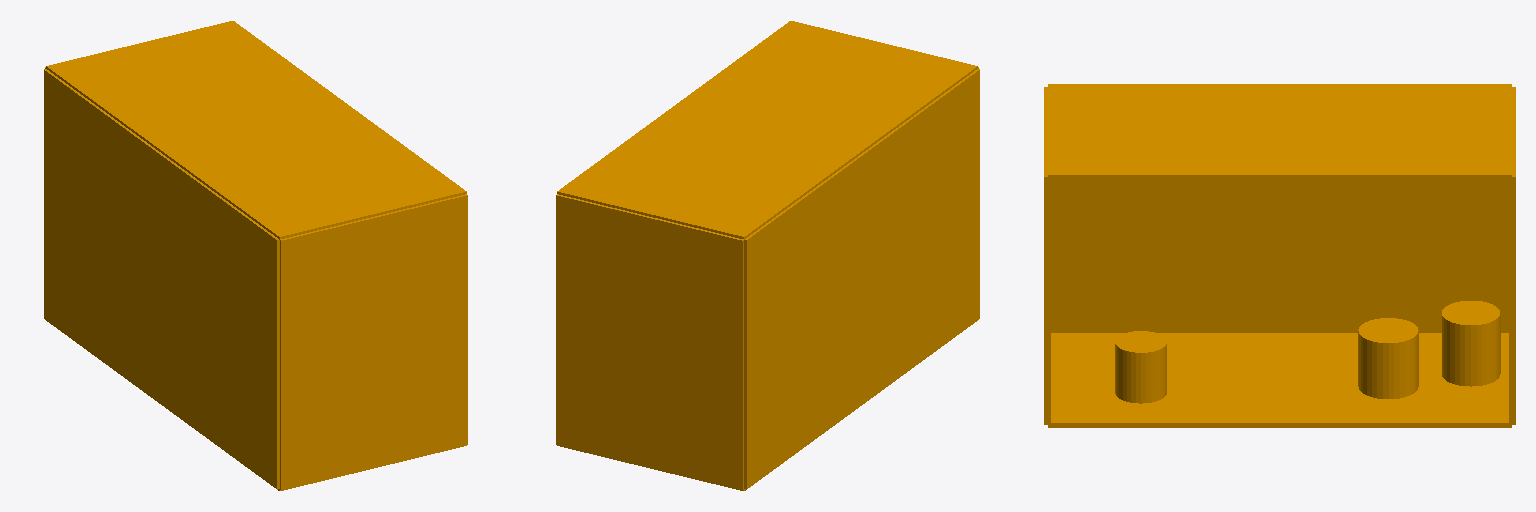
The robot description file, URDF, robot "syn_can_cabinet_2628":
<?xml version="1.0" ?>
<robot name="syn_can_cabinet_2628">
    <link concave="yes" name="base_link">
        <inertial>
            <origin rpy="0 0 0" xyz="0 0 0"/>
            <mass value="0.0"/>
            <inertia ixx="1e-08" ixy="0" ixz="0" iyy="1e-08" iyz="0" izz="1e-08"/>
        </inertial>
        <visual>
            <origin xyz="0 0 0" rpy="0 0 0" />
            <geometry>
                <mesh filename="syn_can_cabinet_2628.obj" scale="1.000000 1.000000 1.000000"/>
            </geometry>         
        </visual>

        <collision concave="yes">
            <origin xyz="0 0 0" rpy="0 0 0"/>
            <geometry>
                <mesh filename="syn_can_cabinet_2628.obj" scale="1.000000 1.000000 1.000000"/>
            </geometry>
        </collision>
    </link>
</robot>
    

--- What the picture shows (computed from the rendered views, not written in the file) ---
The picture shows the robot from 3 angles, left to right: view 1: azimuth 30°, elevation 25°; view 2: azimuth 150°, elevation 25°; view 3: azimuth 270°, elevation 25°; orthographic projection.
Model syn_can_cabinet_2628 with 1 links and 0 joints (none), rooted at base_link, posed every joint at zero.
Visible links, largest first — view 1: base_link; view 2: base_link; view 3: base_link.
Link boxes in pixels (<box>): base_link: <box>44,21,467,490</box>; base_link: <box>556,21,979,490</box>; base_link: <box>1044,84,1515,427</box>.
Size in the robot's own frame: 0.2238 by 0.484 by 0.2869 metres.
Meshes: 1 distinct files referenced, 1 mesh visuals loaded (1 OBJ).
